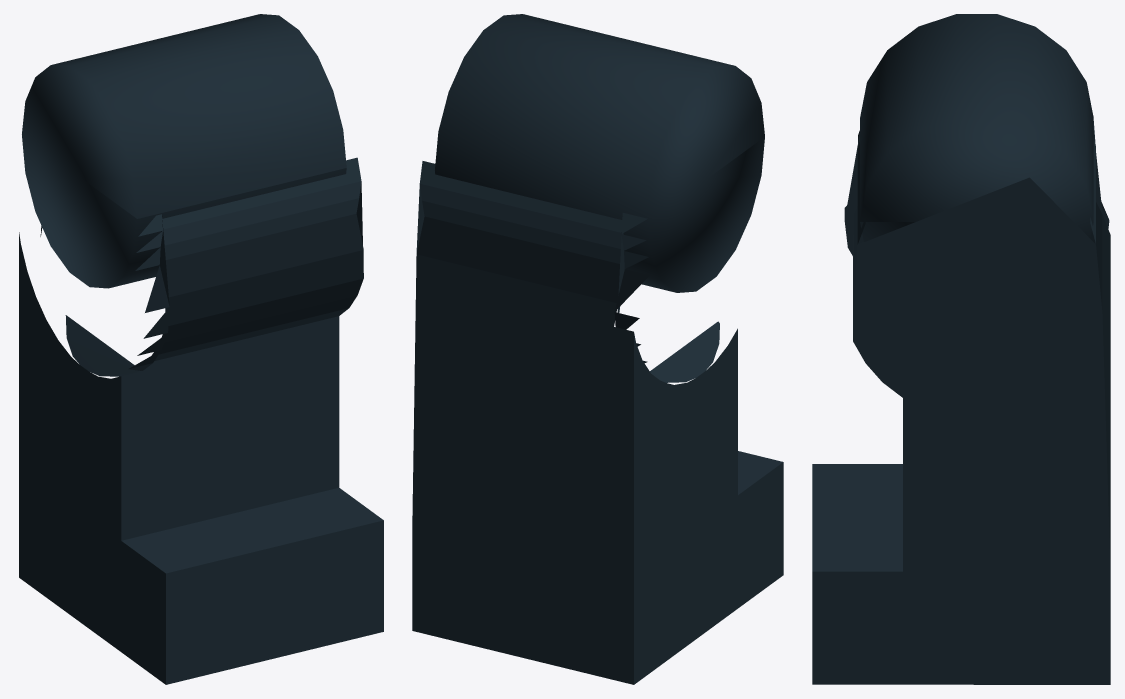
File: legR.glb
3 renders of one model, left to right at view 1: azimuth 30°, elevation 25°; view 2: azimuth 150°, elevation 25°; view 3: azimuth 270°, elevation 25°, orthographic.
Visible parts, largest first — view 1: dex_legR; view 2: dex_legR; view 3: dex_legR.
Boxes of the visible parts, box(x1,y1,x2,y2) form: dex_legR: box(19, 14, 383, 684); dex_legR: box(412, 14, 783, 684); dex_legR: box(812, 14, 1110, 684).
Size of the model in its own units: 0.3056 by 0.7237 by 0.3488.
